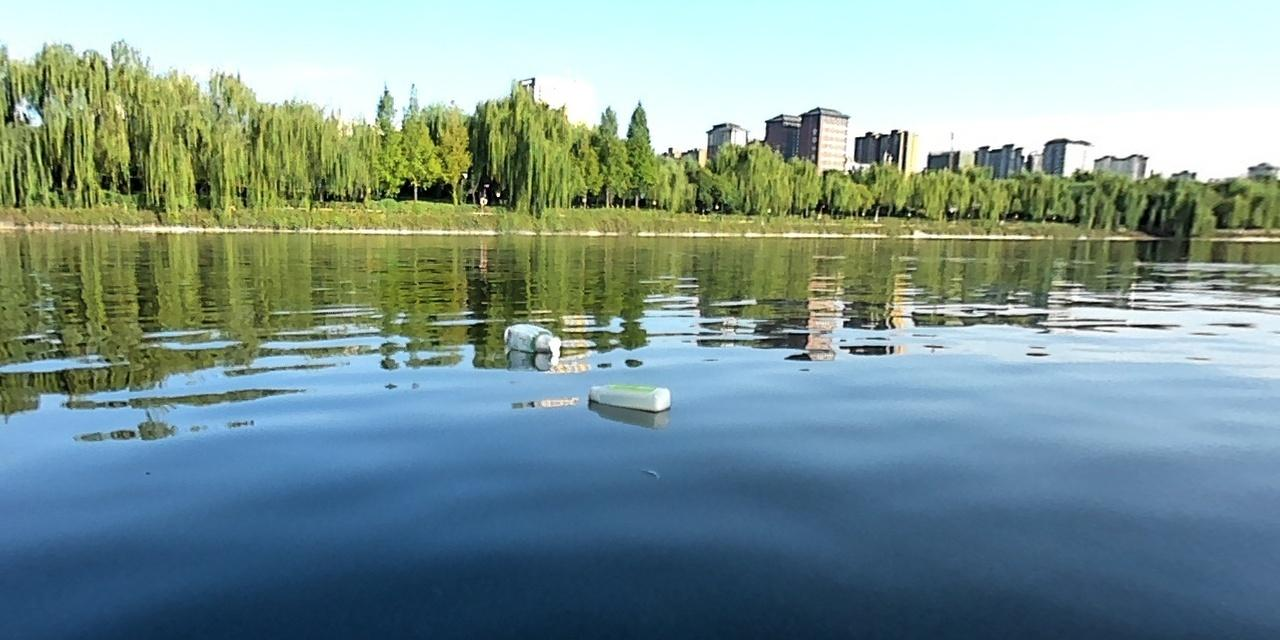bottle: (586, 378, 671, 415), (498, 319, 562, 355)
